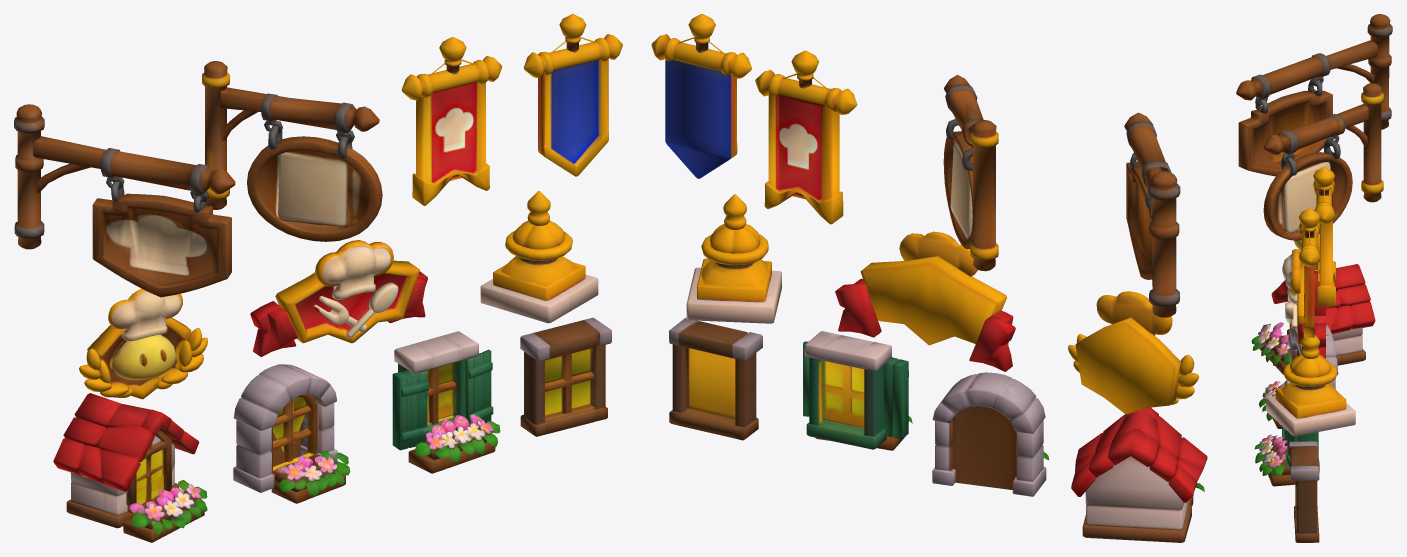
Rendered from sheet_source.glb.
The picture shows the model from 3 angles, left to right: view 1: azimuth 30°, elevation 25°; view 2: azimuth 150°, elevation 25°; view 3: azimuth 270°, elevation 25°; orthographic projection. The views are drawn at different scales.
Parts seen in each view (by area): view 1: tripo_node_838b3b8e-df47-4bf4-a489-83088ad55120; view 2: tripo_node_838b3b8e-df47-4bf4-a489-83088ad55120; view 3: tripo_node_838b3b8e-df47-4bf4-a489-83088ad55120.
Part boxes in pixels (x1=…): tripo_node_838b3b8e-df47-4bf4-a489-83088ad55120: x1=14, y1=14, x2=622, y2=542; tripo_node_838b3b8e-df47-4bf4-a489-83088ad55120: x1=651, y1=14, x2=1207, y2=542; tripo_node_838b3b8e-df47-4bf4-a489-83088ad55120: x1=1236, y1=14, x2=1392, y2=542.
Size of the model in its own units: 0.9995 by 0.688 by 0.3003.
Materials: 1 (1 with a texture image).
